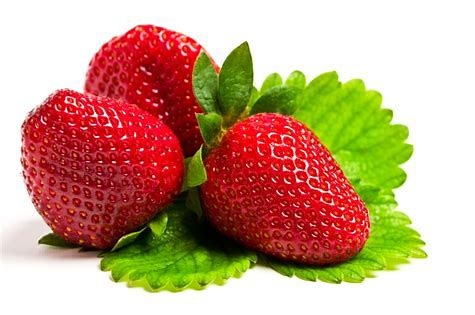strawberry: (16, 87, 189, 257), (198, 107, 373, 270), (83, 20, 244, 167)
